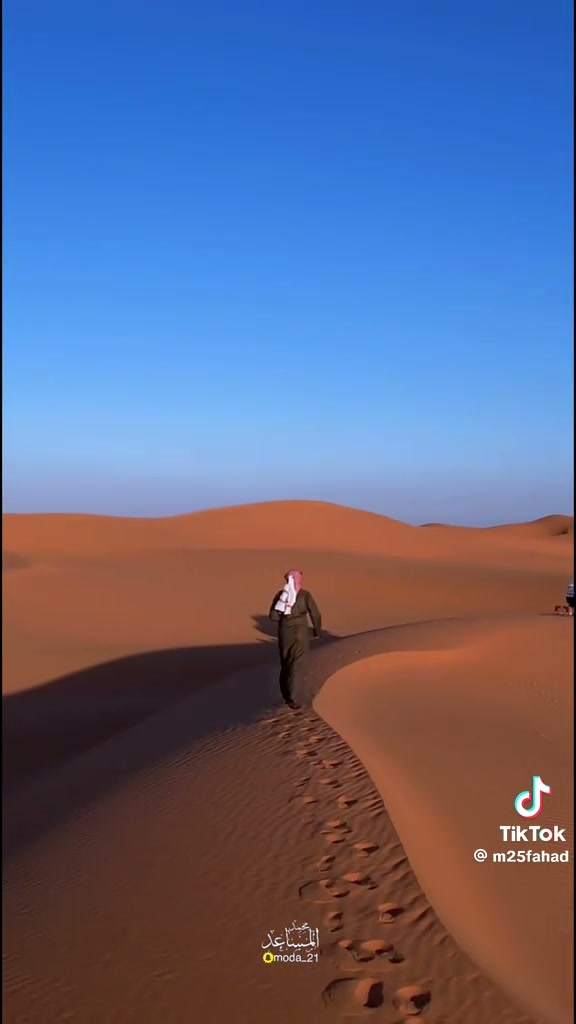human_foot_print: (269, 570, 321, 709), (326, 938, 403, 969), (322, 977, 383, 1015), (299, 877, 349, 902), (393, 985, 430, 1016), (320, 819, 350, 843), (342, 871, 377, 889), (377, 902, 403, 923), (321, 819, 350, 833), (354, 841, 378, 857), (324, 911, 342, 932), (316, 854, 335, 872), (321, 830, 345, 844), (295, 747, 317, 760), (566, 581, 574, 615), (319, 777, 341, 788), (337, 795, 356, 807), (322, 759, 341, 769), (294, 776, 309, 788), (301, 793, 317, 804)
